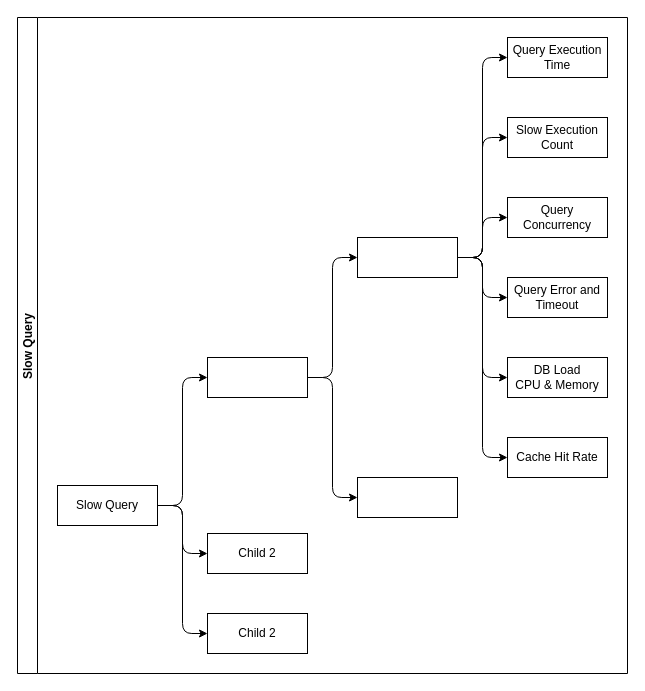
The diagram is 645 pixels wide and 691 high, and some of its shapes have lost their labels. Each missing label, with the centre of its shape:
"Application Performance Monitoring" belongs at (x=257, y=377).
"Network Client CDN" belongs at (x=407, y=497).
"Prometheus+Grafana" belongs at (x=407, y=257).
